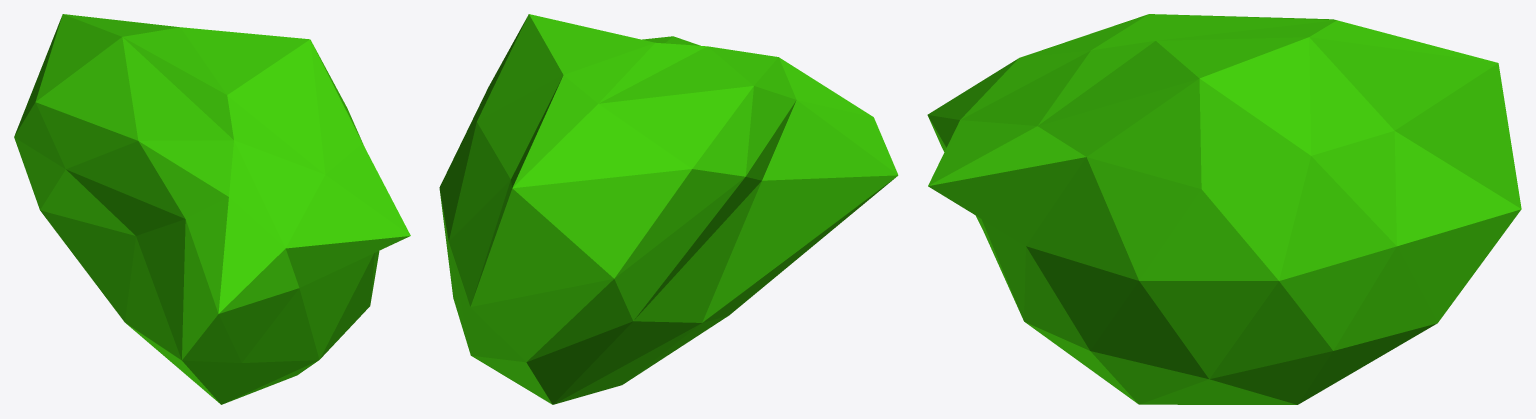
The model's file is green1.obj.
The picture shows the model from 3 angles, left to right: view 1: azimuth 30°, elevation 25°; view 2: azimuth 150°, elevation 25°; view 3: azimuth 270°, elevation 25°; orthographic projection. The views are drawn at different scales.
Visible parts, largest first — view 1: Icosphere; view 2: Icosphere; view 3: Icosphere.
Part boxes in pixels (<box>): Icosphere: <box>14,14,410,404</box>; Icosphere: <box>439,14,898,404</box>; Icosphere: <box>927,14,1521,404</box>.
Bounding box in the file's own units: 6.48 × 6.82 × 10.03.
